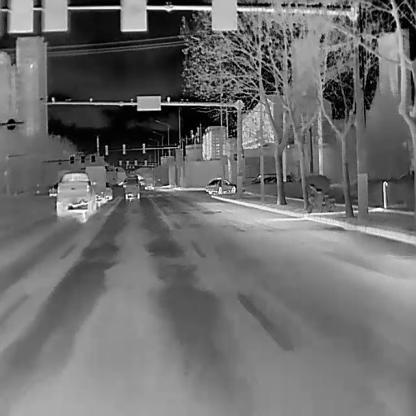car: (55, 171, 96, 221), (84, 165, 105, 205), (203, 176, 236, 194), (251, 172, 287, 185), (123, 175, 139, 200), (143, 176, 154, 190)
